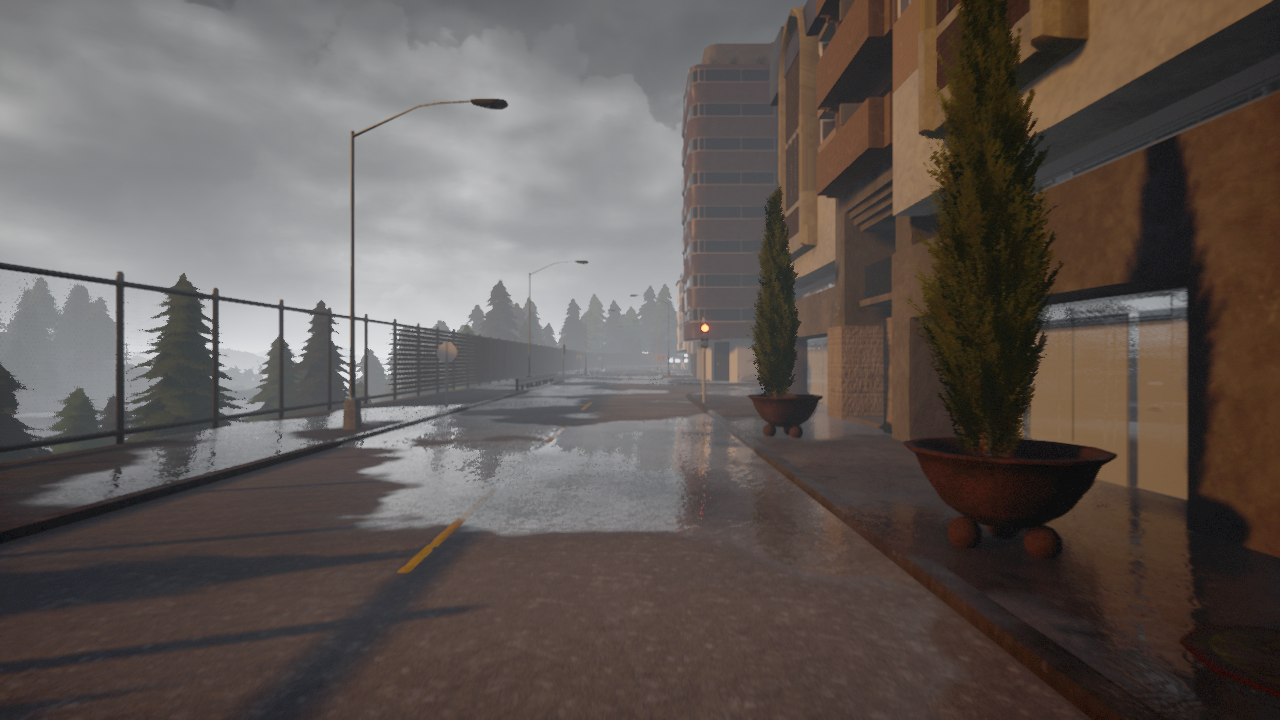red: (700, 320, 709, 348)
